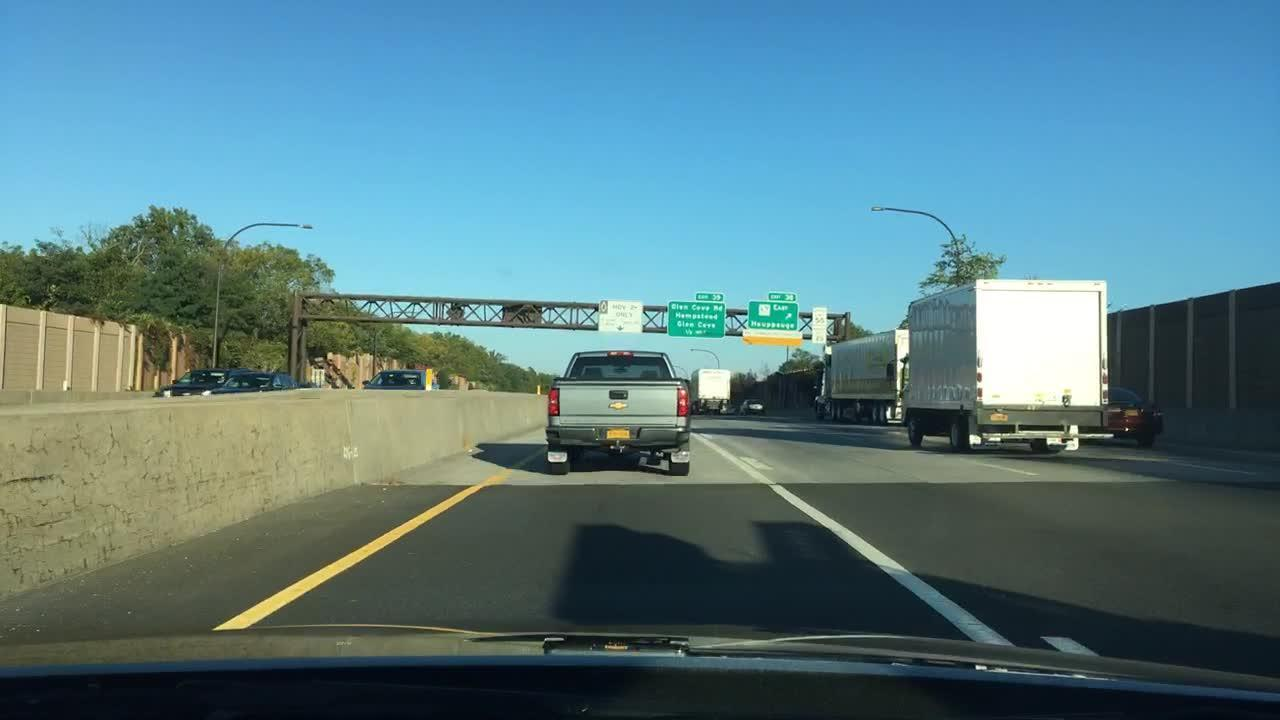chevrolet: (605, 401, 635, 414)
